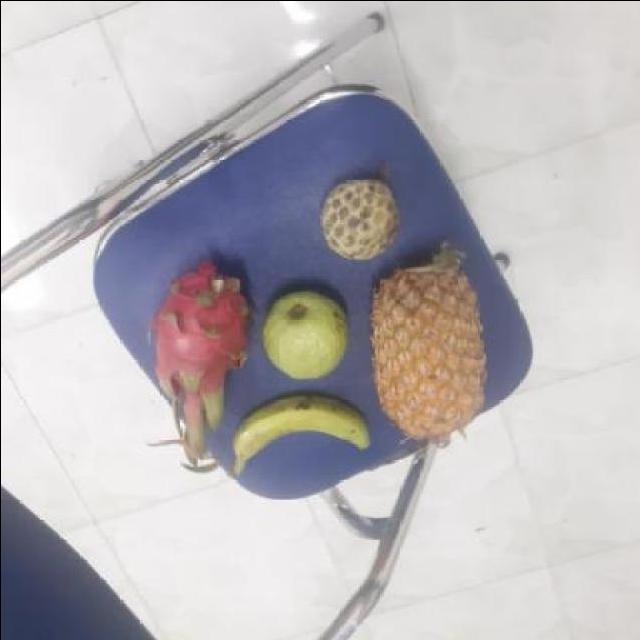banana: (230, 389, 378, 483)
dragon fruit: (150, 272, 259, 419)
guava: (256, 291, 352, 380)
pineapple: (368, 255, 491, 443)
sugar apple: (319, 177, 406, 258)
